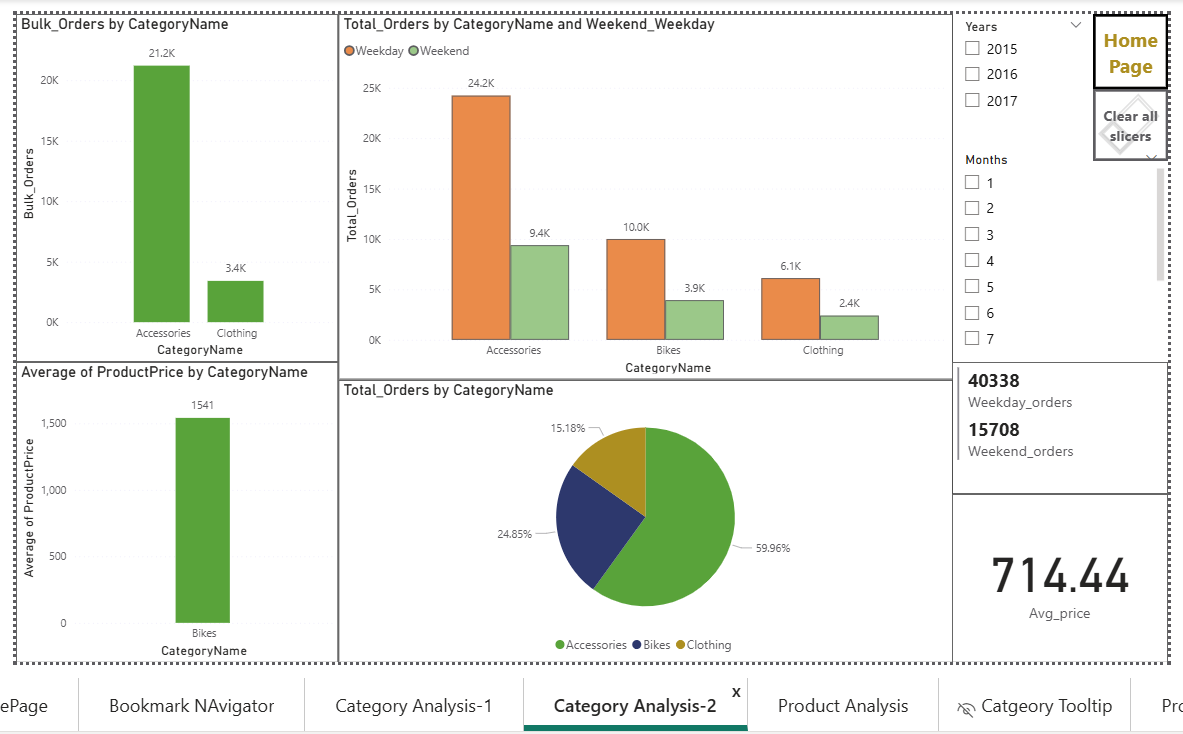

This screenshot's page, from the dashboard's own definition file:
{"tool":"powerbi","page":{"name":"Category Analysis-2","canvas":[1280,720],"ordinal":3},"visuals":[{"type":"clusteredColumnChart","fields":{"Category":["Categories.CategoryName"],"Y":["Sales.Bulk_Orders"]},"box":[0,0,358.3,386.4],"z":0},{"type":"clusteredColumnChart","fields":{"Category":["Categories.CategoryName"],"Series":["Sales.Weekend_Weekday"],"Y":["Sales.Total_Orders"]},"box":[358.3,0,682.3,406],"z":1000},{"type":"multiRowCard","fields":{"Values":["Sales.Weekday_orders","Sales.Weekend_orders"]},"box":[1040.6,386.4,239.7,146.7],"z":2000},{"type":"pieChart","fields":{"Category":["Categories.CategoryName"],"Y":["Sales.Total_Orders"]},"box":[358.3,406,682.3,314.3],"z":3000},{"type":"card","fields":{"Values":["Sales.Avg_price"]},"box":[1040.6,533.2,239.7,187.1],"z":4000},{"type":"clusteredColumnChart","fields":{"Category":["Categories.CategoryName"],"Y":["Avg(Products.ProductPrice)"]},"box":[0,386.4,358.3,333.8],"z":5000},{"type":"slicer","fields":{"Values":["Calendar.Dates.Years"]},"box":[1041.2,0,155,148.8],"z":6000},{"type":"slicer","fields":{"Values":["Calendar.Dates.Months"]},"box":[1041,149,239,237],"z":7000},{"type":"actionButton","box":[1196.2,0,83.8,83.8],"z":8000},{"type":"actionButton","box":[1196.2,83.8,83.8,80],"z":9000}]}

Visuals, with their boxes on the page's 1280x720 design canvas (x1, y1, x2, y2). These are canvas units, not pixel positions in the 1183x734 screenshot, which may show the page scaled, cropped or inside an application window:
clusteredColumnChart - Categories.CategoryName x Sales.Bulk_Orders: (left=0, top=0, right=358, bottom=386)
clusteredColumnChart - Categories.CategoryName x Sales.Weekend_Weekday: (left=358, top=0, right=1041, bottom=406)
multiRowCard - Sales.Weekday_orders x Sales.Weekend_orders: (left=1041, top=386, right=1280, bottom=533)
pieChart - Categories.CategoryName x Sales.Total_Orders: (left=358, top=406, right=1041, bottom=720)
card - Sales.Avg_price: (left=1041, top=533, right=1280, bottom=720)
clusteredColumnChart - Categories.CategoryName x Avg(Products.ProductPrice): (left=0, top=386, right=358, bottom=720)
slicer - Calendar.Dates.Years: (left=1041, top=0, right=1196, bottom=149)
slicer - Calendar.Dates.Months: (left=1041, top=149, right=1280, bottom=386)
actionButton: (left=1196, top=0, right=1280, bottom=84)
actionButton: (left=1196, top=84, right=1280, bottom=164)
